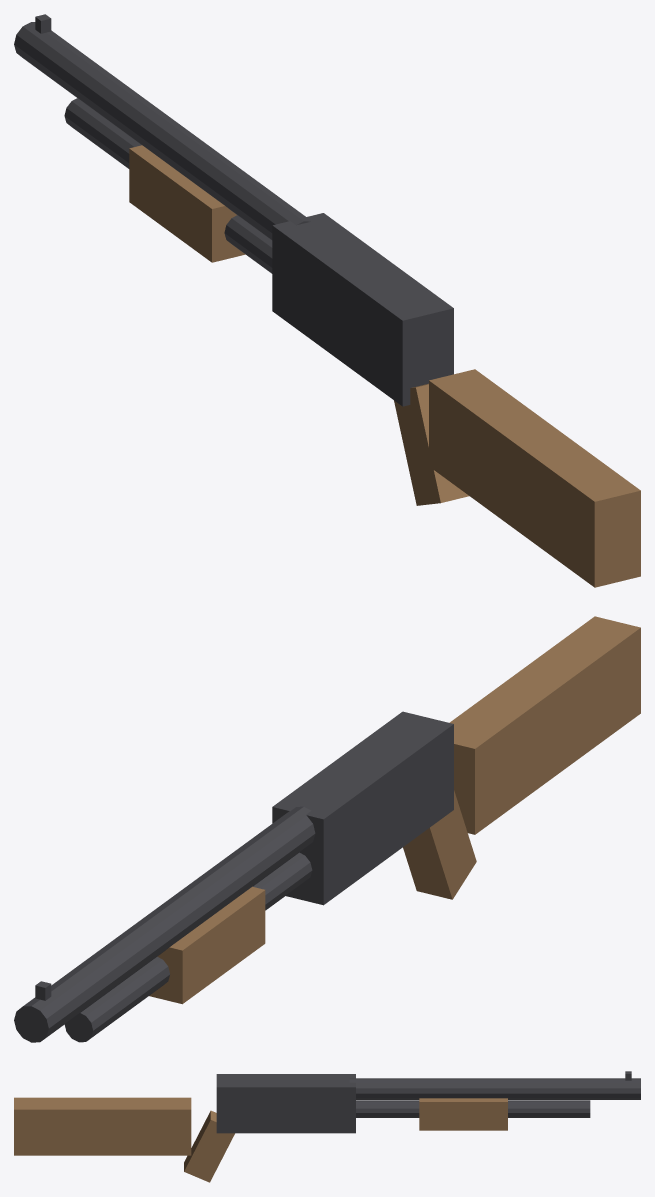
Rendered from shotgun.glb.
The picture shows the model from 3 angles, top to bottom: view 1: azimuth 30°, elevation 25°; view 2: azimuth 150°, elevation 25°; view 3: azimuth 270°, elevation 25°; orthographic projection. The views are drawn at different scales.
Visible parts, largest first — view 1: Shotgun; view 2: Shotgun; view 3: Shotgun.
Boxes of the visible parts, box(x1,y1,x2,y2) form: Shotgun: box(14, 14, 640, 587); Shotgun: box(14, 616, 640, 1042); Shotgun: box(14, 1071, 640, 1182).
Bounding box in the file's own units: 0.052 × 0.1838 × 0.99.
